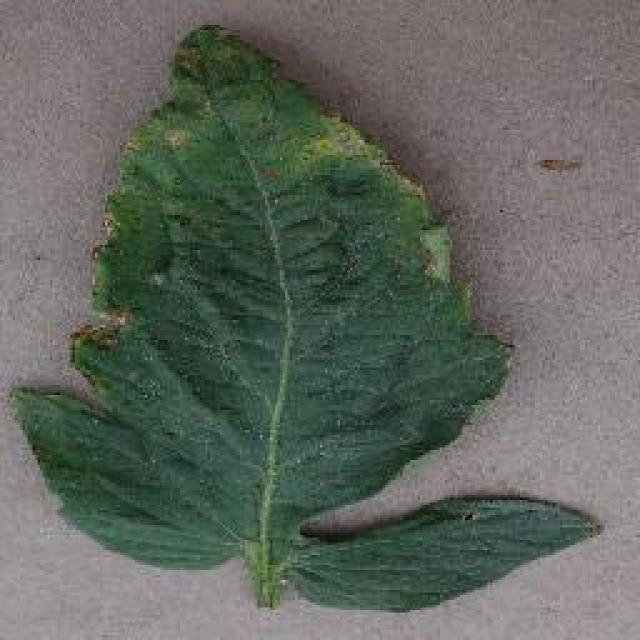Tomato bacterial spot leaf: (15, 27, 603, 605)
